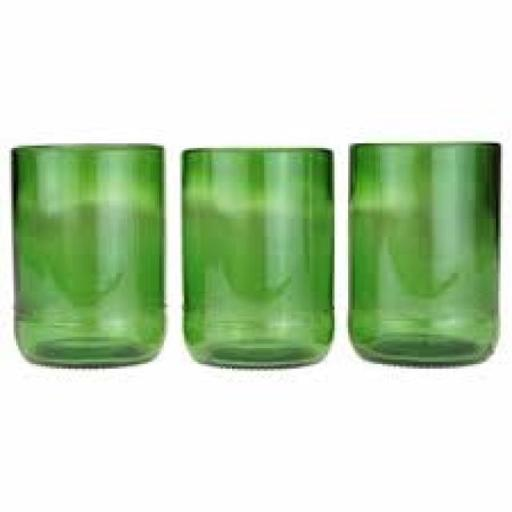glass: (12, 144, 166, 368), (182, 147, 335, 367), (350, 142, 496, 363)
